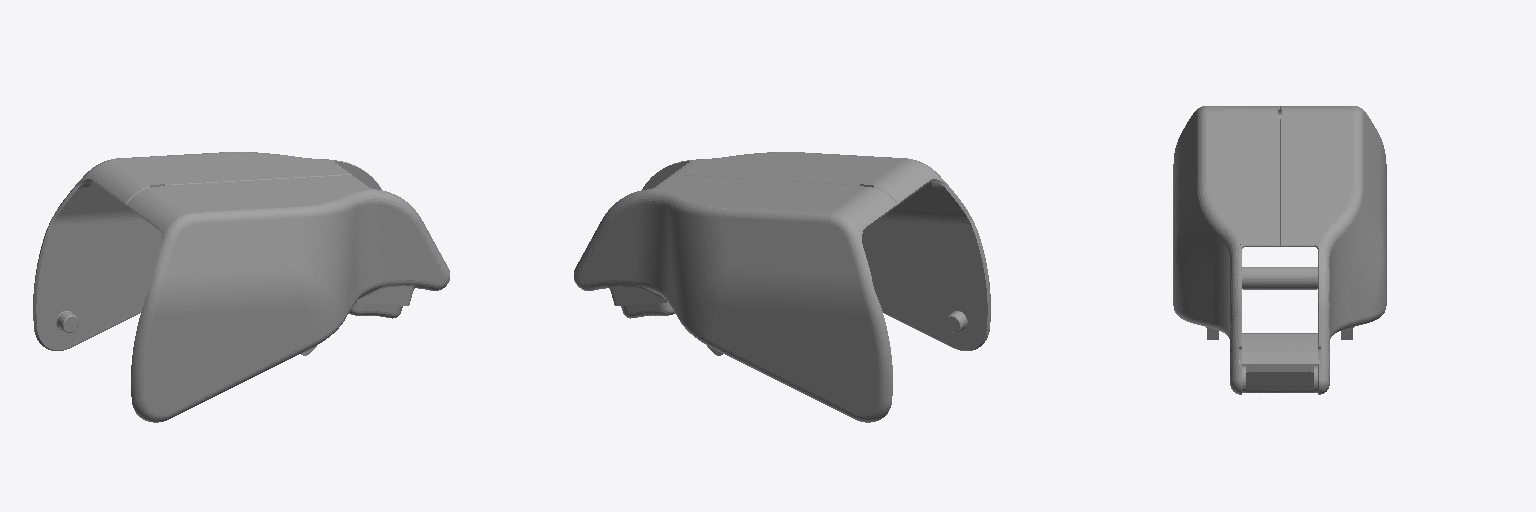
Rendered from finger_H_UV_100430.obj.
3 renders of one model, left to right at view 1: azimuth 30°, elevation 25°; view 2: azimuth 150°, elevation 25°; view 3: azimuth 270°, elevation 25°, orthographic.
Visible parts, largest first — view 1: finger_H_20K_finger_H_20KShape; view 2: finger_H_20K_finger_H_20KShape; view 3: finger_H_20K_finger_H_20KShape.
Part boxes in pixels (x1,y1,x2,y2): finger_H_20K_finger_H_20KShape: (33,152,449,422); finger_H_20K_finger_H_20KShape: (574,152,990,422); finger_H_20K_finger_H_20KShape: (1173,106,1386,394).
Bounding box in the file's own units: 0.1045 × 0.0547 × 0.0555.